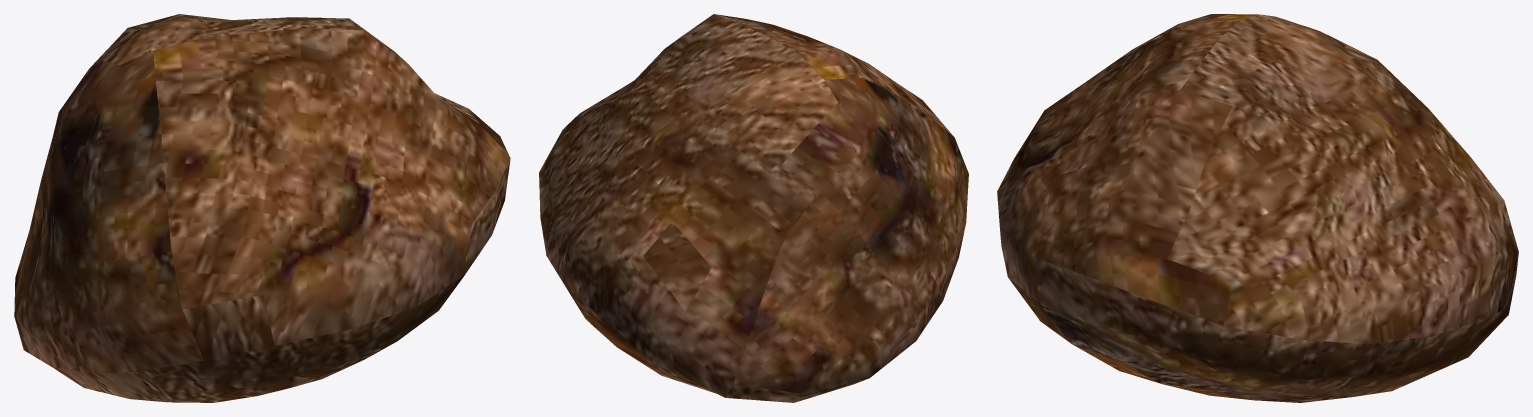
The model's file is Hand Poop Lo.fbx.
3 renders of one model, left to right at view 1: azimuth 30°, elevation 25°; view 2: azimuth 150°, elevation 25°; view 3: azimuth 270°, elevation 25°, orthographic. The views are drawn at different scales.
Parts seen in each view (by area): view 1: Poop Lo; view 2: Poop Lo; view 3: Poop Lo.
Part boxes in pixels (x1,y1,x2,y2): Poop Lo: (14,14,510,402); Poop Lo: (539,14,968,402); Poop Lo: (997,14,1518,402).
Size of the model in its own units: 93.53 by 70.2 by 95.45.
